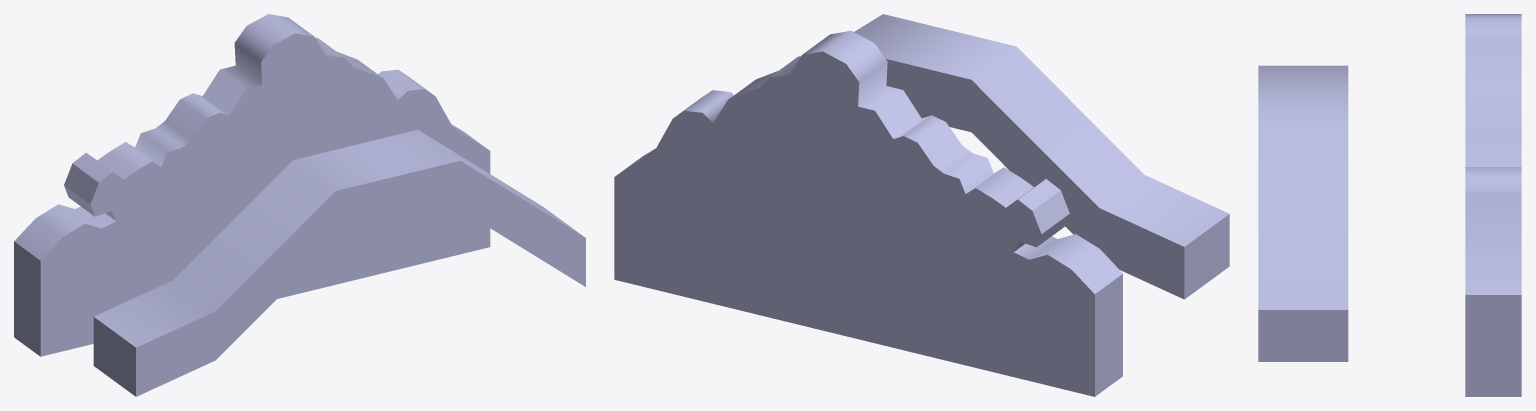
Rendered from SlopeRight.fbx.
The picture shows the model from 3 angles, left to right: view 1: azimuth 30°, elevation 25°; view 2: azimuth 150°, elevation 25°; view 3: azimuth 270°, elevation 25°; orthographic projection. The views are drawn at different scales.
Visible parts, largest first — view 1: SlopeRight, SlopeRightTrack; view 2: SlopeRight, SlopeRightTrack; view 3: SlopeRightTrack, SlopeRight.
Boxes of the visible parts, x1,y1,x2,y2 form: SlopeRight: (14, 14, 490, 356); SlopeRightTrack: (93, 129, 585, 396); SlopeRight: (614, 30, 1122, 396); SlopeRightTrack: (854, 14, 1229, 299); SlopeRightTrack: (1258, 65, 1348, 361); SlopeRight: (1465, 14, 1521, 396).
Size of the model in its own units: 49.23 by 27.21 by 23.42.
